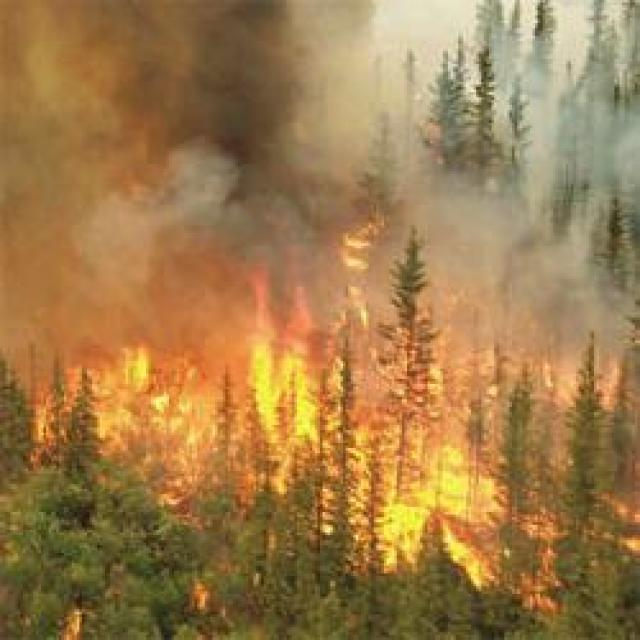fire: (48, 355, 240, 469), (248, 328, 322, 454), (426, 438, 503, 536), (373, 484, 433, 568)
smoke: (0, 3, 323, 289), (420, 166, 639, 360), (460, 7, 640, 165)
